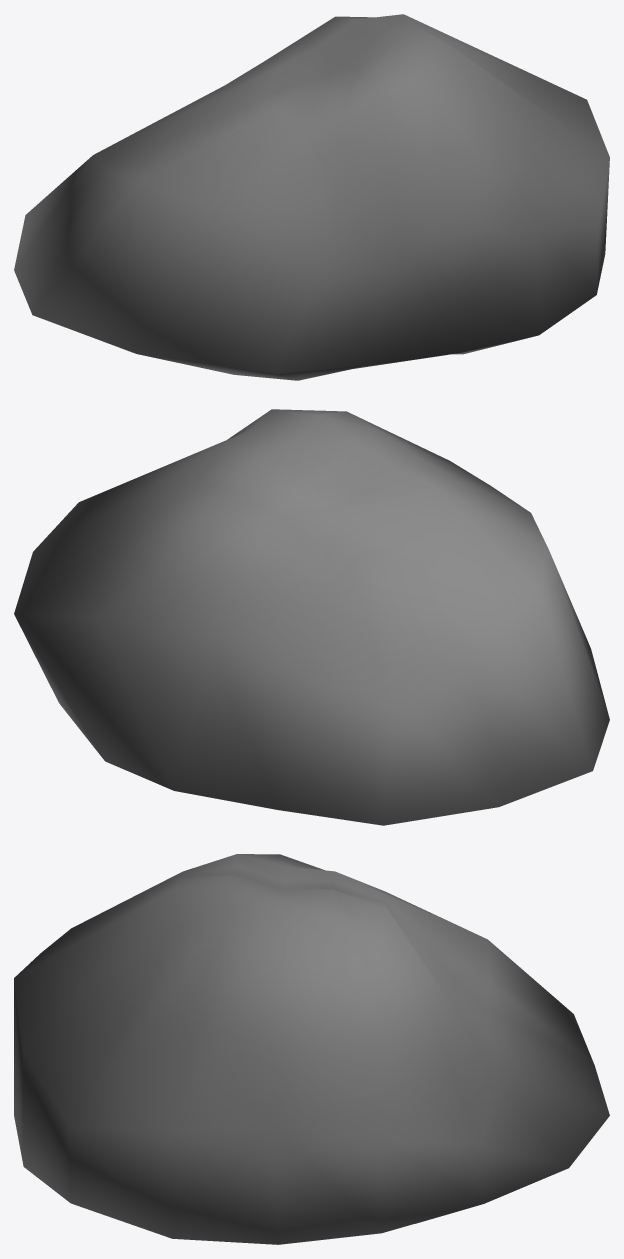
File: rock01.fbx
3 renders of one model, top to bottom at view 1: azimuth 30°, elevation 25°; view 2: azimuth 150°, elevation 25°; view 3: azimuth 270°, elevation 25°, orthographic. The views are drawn at different scales.
Visible parts, largest first — view 1: rock01; view 2: rock01; view 3: rock01.
Boxes of the visible parts, x1,y1,x2,y2 form: rock01: (14, 14, 609, 380); rock01: (14, 409, 609, 825); rock01: (14, 854, 609, 1244).
Bounding box in the file's own units: 194 × 103 × 170.
Materials: 1 (1 with a texture image).
